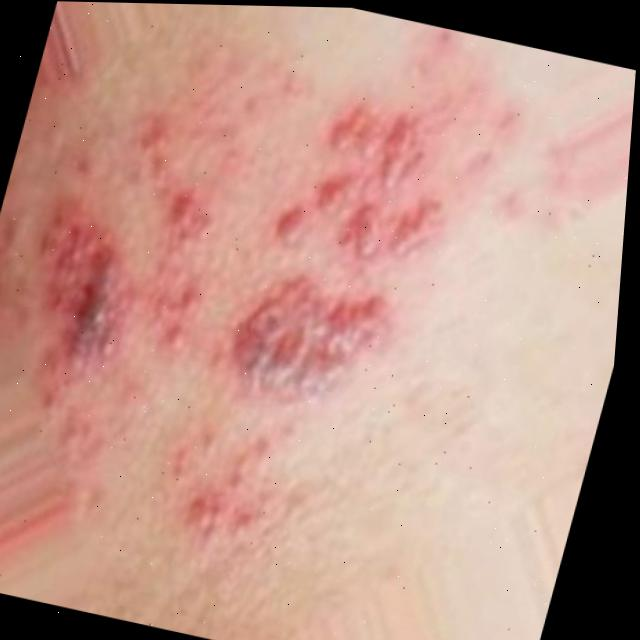Shingles: (0, 20, 487, 559)
